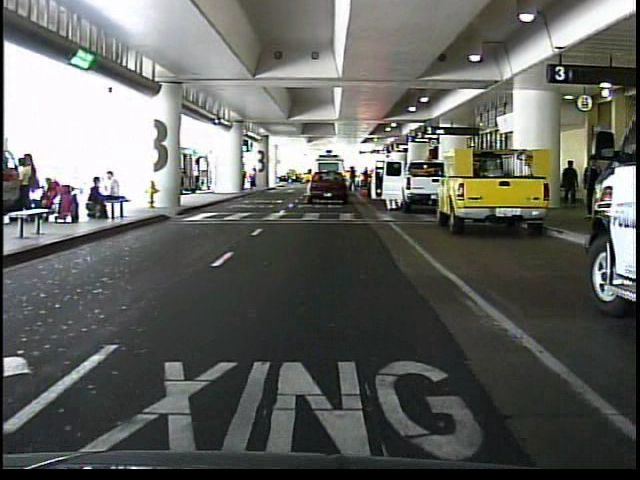person: (557, 156, 581, 212), (249, 166, 260, 191)
